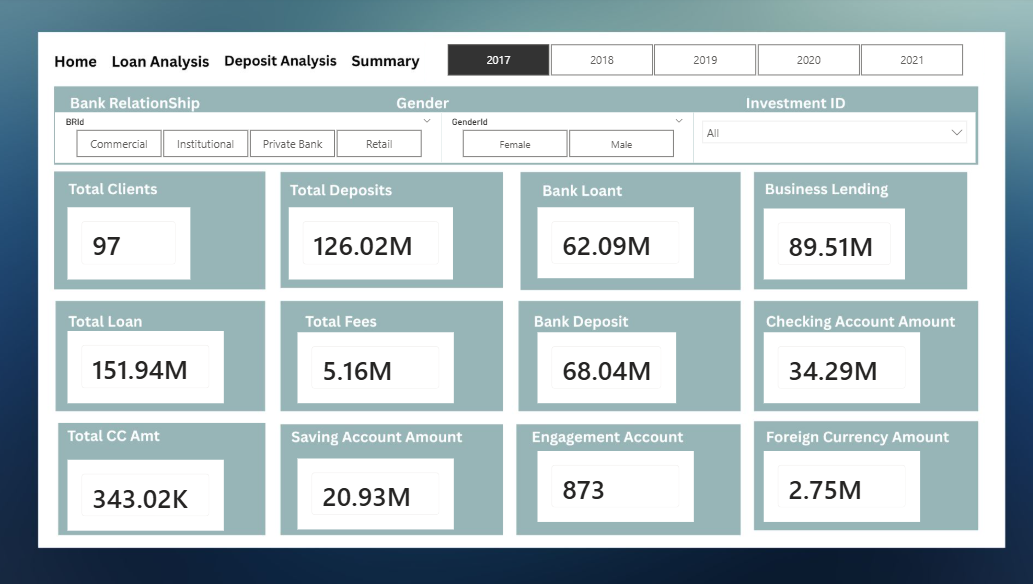

This screenshot's page, from the dashboard's own definition file:
{"tool":"powerbi","page":{"name":"Summary","canvas":[1280,720],"ordinal":3},"visuals":[{"type":"slicer","fields":{"Values":["Banking.BRId"]},"box":[72.7,141.3,470.7,61.7],"z":0},{"type":"slicer","fields":{"Values":["Banking.GenderId"]},"box":[543.4,141.3,307.4,61.7],"z":1000},{"type":"slicer","fields":{"Values":["Banking.IAId"]},"box":[850.8,141.3,343.1,61.7],"z":2000},{"type":"slicer","fields":{"Values":["Banking.year of joining"]},"box":[525.6,52.1,677.9,52.1],"z":3000},{"type":"cardVisual","fields":{"Data":["Banking.Total Clients"]},"box":[87.8,258,149.6,87.8],"z":4000},{"type":"cardVisual","fields":{"Data":["Banking.Total loan"]},"box":[87.8,407.5,190.7,87.8],"z":5000},{"type":"cardVisual","fields":{"Data":["Banking.Total Deposit"]},"box":[358.1,258,200.3,87.8],"z":6000},{"type":"cardVisual","fields":{"Data":["Dax measure.Bank Loan"]},"box":[660.7,257.3,190.3,86.8],"z":7000},{"type":"cardVisual","fields":{"Data":["Dax measure.Business Lending"]},"box":[936.3,258.8,172,86.8],"z":8000},{"type":"cardVisual","fields":{"Data":["Dax measure.TotalFees"]},"box":[368.4,409.5,190.3,86.8],"z":9000},{"type":"cardVisual","fields":{"Data":["Dax measure.Bank Deposit"]},"box":[660.7,409.5,169,86.8],"z":10000},{"type":"cardVisual","fields":{"Data":["Sum(Banking.Credit Card Balance)"]},"box":[88.3,564.8,190.3,86.8],"z":11000},{"type":"cardVisual","fields":{"Data":["Dax measure.Foreign Currency Account"]},"box":[936.3,554.1,190.3,86.8],"z":12000},{"type":"cardVisual","fields":{"Data":["Sum(Banking.Checking Accounts)"]},"box":[936.3,409.5,190.3,86.8],"z":13000},{"type":"cardVisual","fields":{"Data":["Dax measure.Engagment Length"]},"box":[660.7,554.1,190.3,86.8],"z":14000},{"type":"cardVisual","fields":{"Data":["Dax measure.Savings Account"]},"box":[368.4,563.3,190.3,86.8],"z":15000}]}

Visuals, with their boxes in screenshot pixels (x1, y1, x2, y2), scaled from the page's 1280x720 canvas onto the 1033x584 screenshot:
slicer - Banking.BRId: 59:115:439:165
slicer - Banking.GenderId: 439:115:687:165
slicer - Banking.IAId: 687:115:964:165
slicer - Banking.year of joining: 424:42:971:85
cardVisual - Banking.Total Clients: 71:209:192:280
cardVisual - Banking.Total loan: 71:331:225:402
cardVisual - Banking.Total Deposit: 289:209:451:280
cardVisual - Dax measure.Bank Loan: 533:209:687:279
cardVisual - Dax measure.Business Lending: 756:210:894:280
cardVisual - Dax measure.TotalFees: 297:332:451:403
cardVisual - Dax measure.Bank Deposit: 533:332:670:403
cardVisual - Sum(Banking.Credit Card Balance): 71:458:225:529
cardVisual - Dax measure.Foreign Currency Account: 756:449:909:520
cardVisual - Sum(Banking.Checking Accounts): 756:332:909:403
cardVisual - Dax measure.Engagment Length: 533:449:687:520
cardVisual - Dax measure.Savings Account: 297:457:451:527
